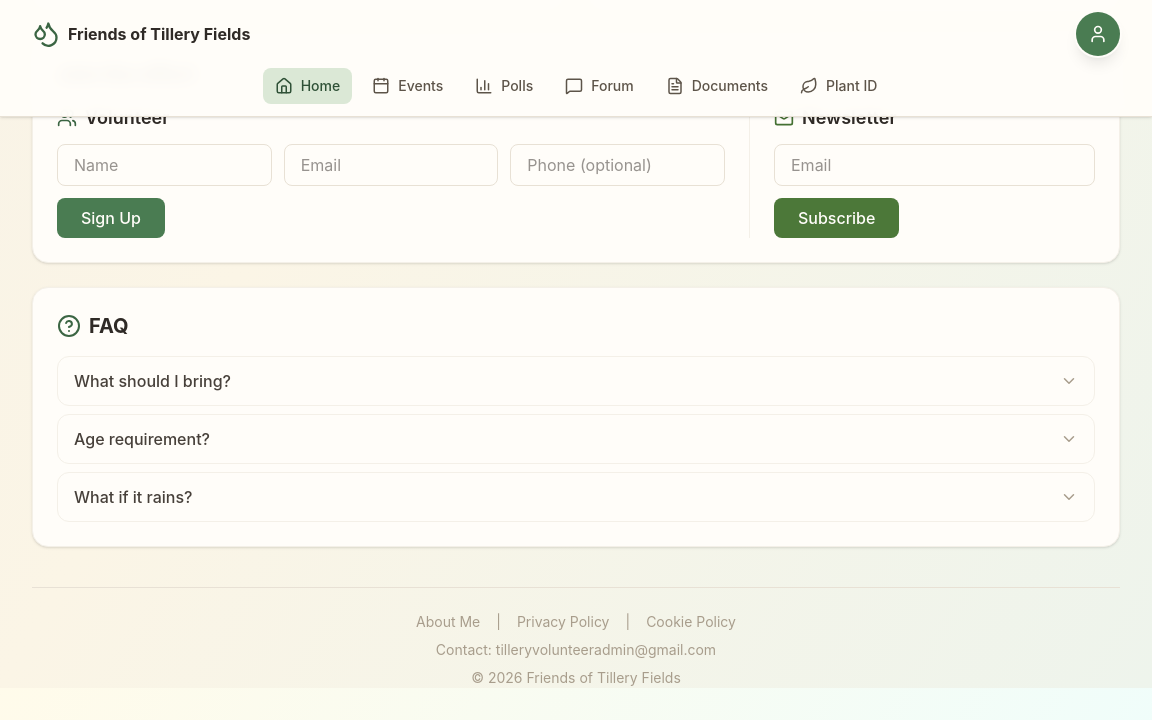
visitor navigation and public content › keeps About Me hidden until its footer link is opened
This screenshot has width=1152, height=720.
(page scrolled)
Expected: the navigation bar named "primary navigation" is shown, [263,68,877,104]
Click the link "About Me": (448, 622) [416,612,480,632]
(page scrolled)
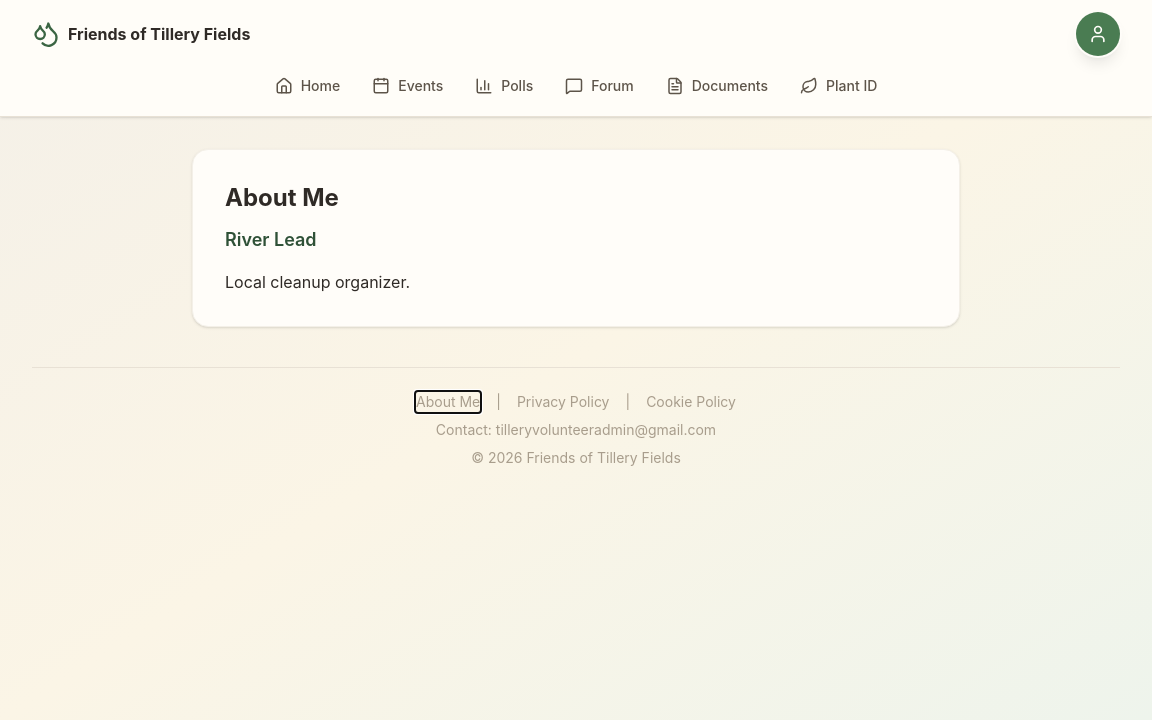
Expected: the element "About Me River Lead Local cleanup organizer." is shown, [192,149,960,327]
Click the link "Home": (307, 86) [275,77,340,95]
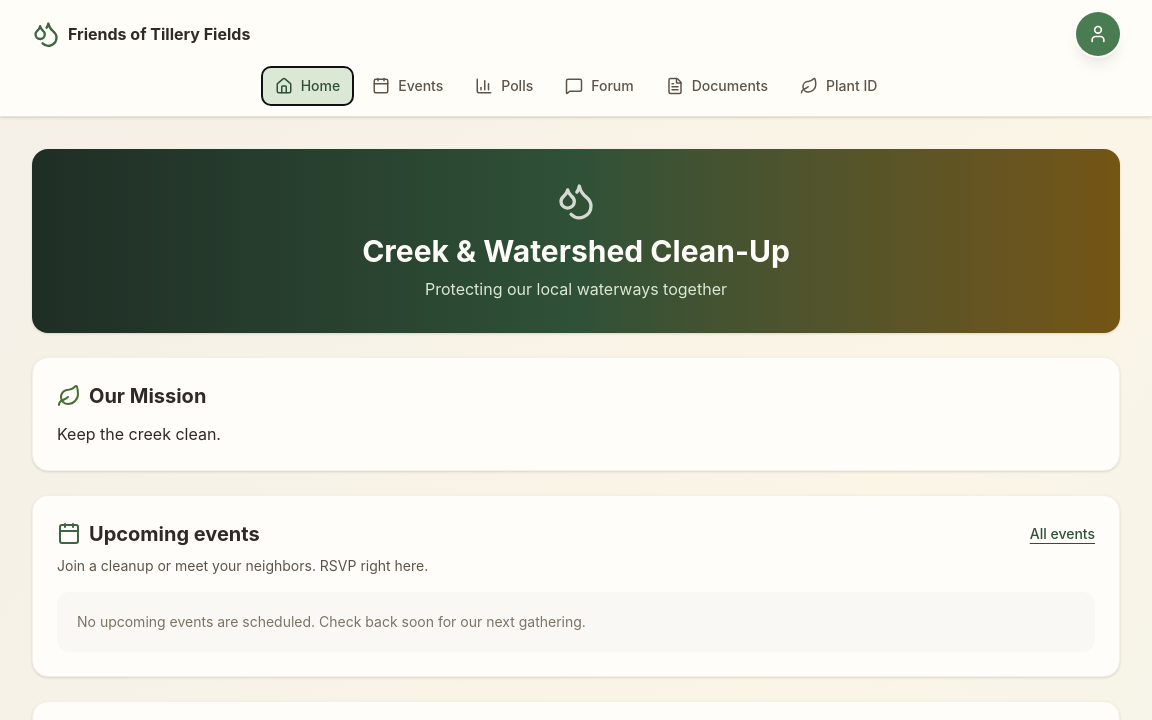
Expected: the heading "Creek & Watershed Clean-Up" is shown, [362,233,790,269]
